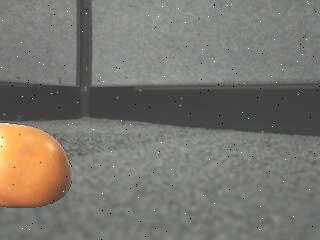Potato: (0, 122, 71, 209)
